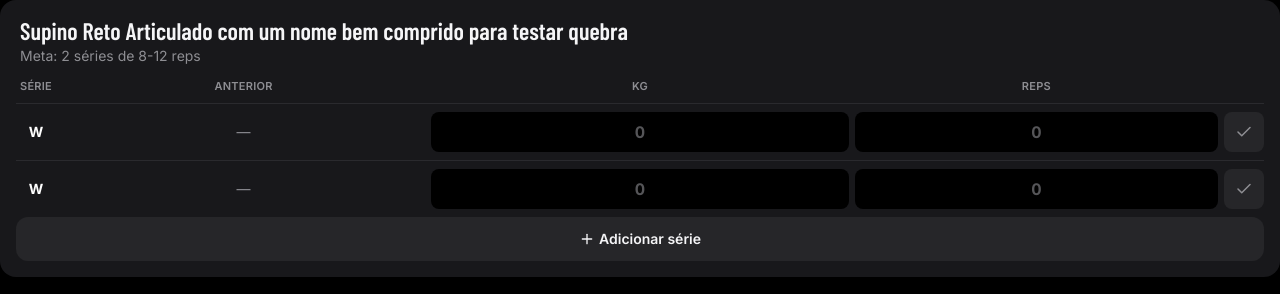
Test: ExerciseSessionCard › toque duplo no confirmar registra só uma vez
Type "40" into the field named "Peso em kg".
click(640, 132); type("40")  # box top-left (431, 112), bottom-right (849, 152)
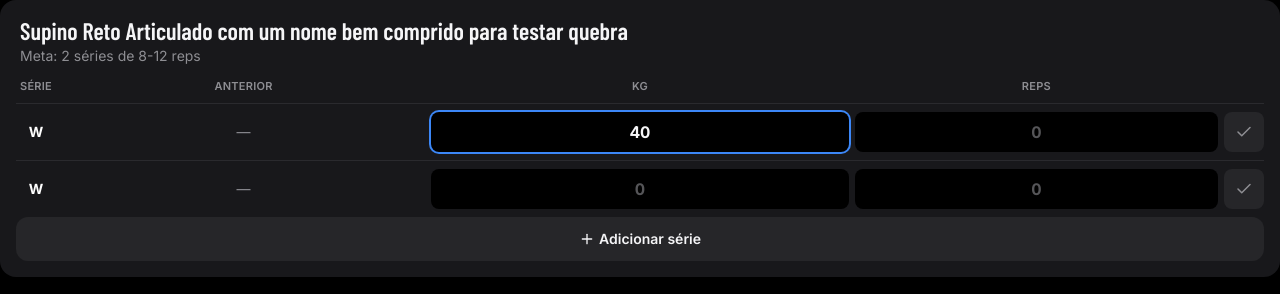
Type "8" into the field named "Repetições".
click(1036, 132); type("8")  # box top-left (855, 112), bottom-right (1218, 152)
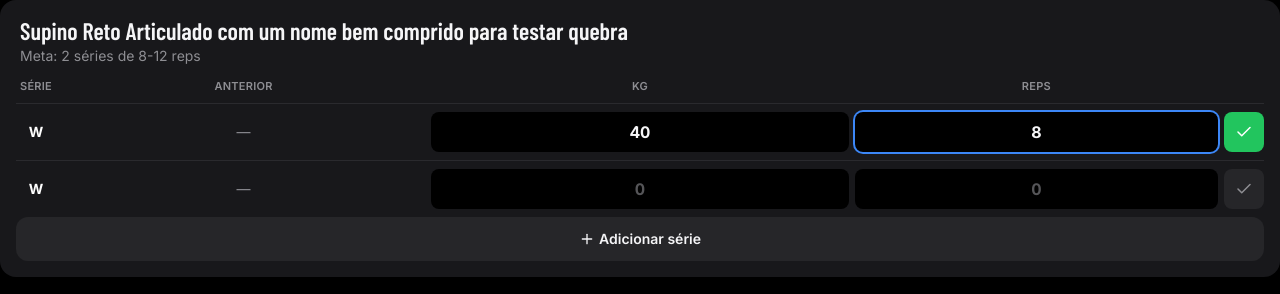
Click the 1st button named "Confirmar série".
click(1244, 132)  # box top-left (1224, 112), bottom-right (1264, 152)
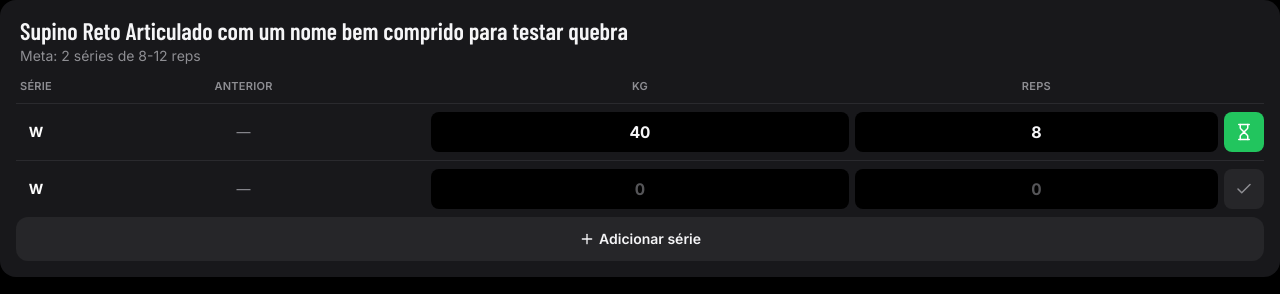
Click the 1st button named "Confirmar série".
click(1244, 132)  # box top-left (1224, 112), bottom-right (1264, 152)
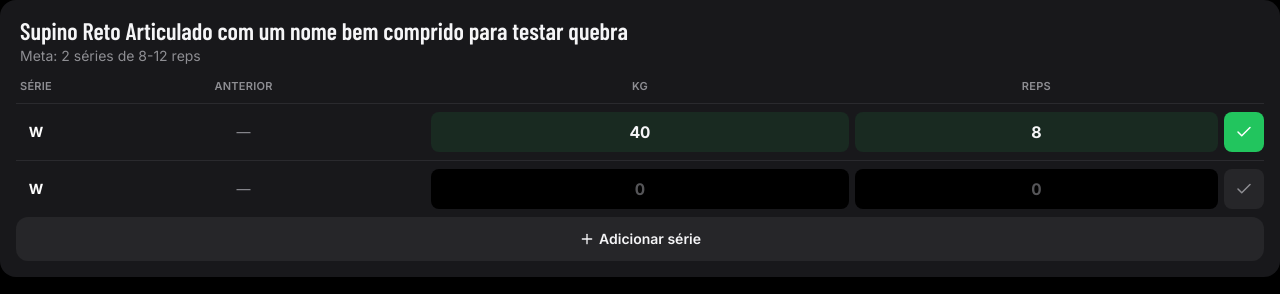
Expected: the button named "Desfazer série" is shown, top-left (1224, 112), bottom-right (1264, 152)
